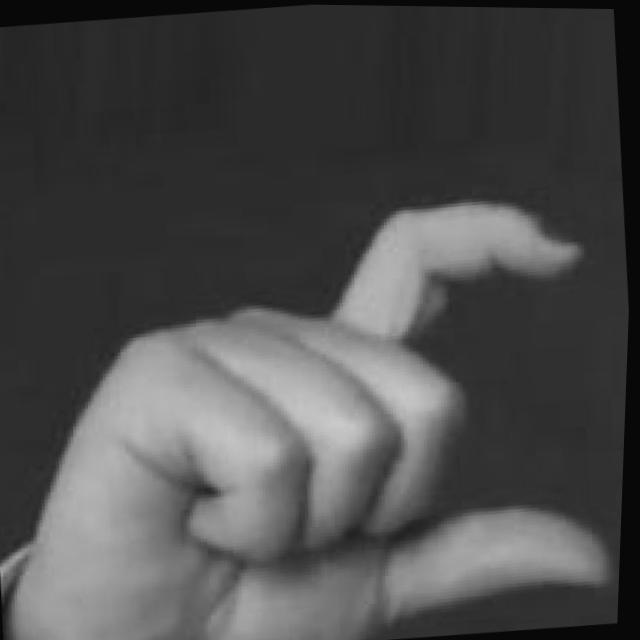C: (0, 179, 633, 640)
